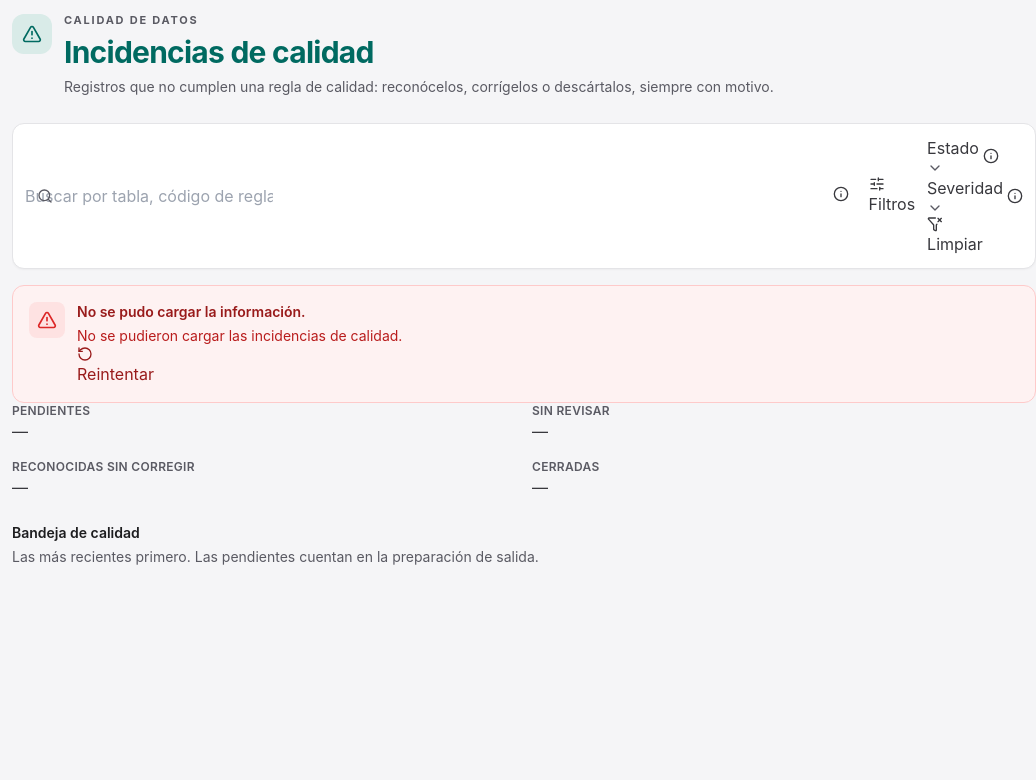
Incidencias de calidad · bandeja única (absorbe «Alertas») › si la carga falla se ve el error con reintentar
The width and height of the screenshot is (1036, 780).
Click the button "Reintentar" at (115, 366), box [77, 346, 154, 386]
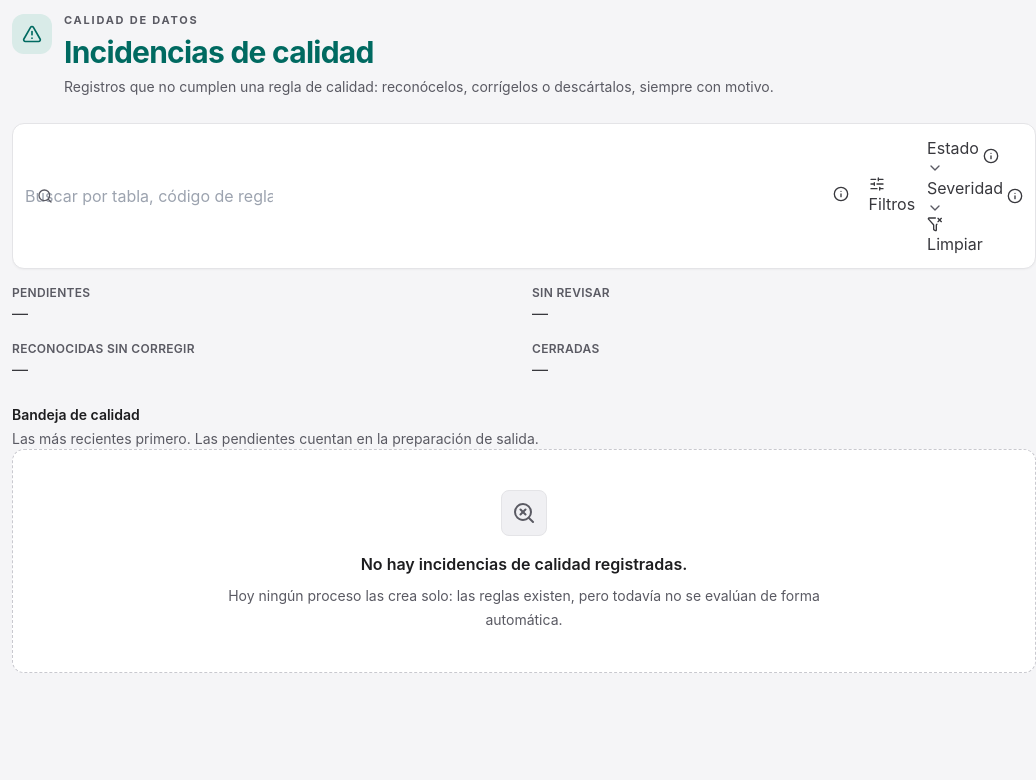
Expected: the heading "No hay incidencias de calidad registradas." is shown, [361, 552, 687, 576]
